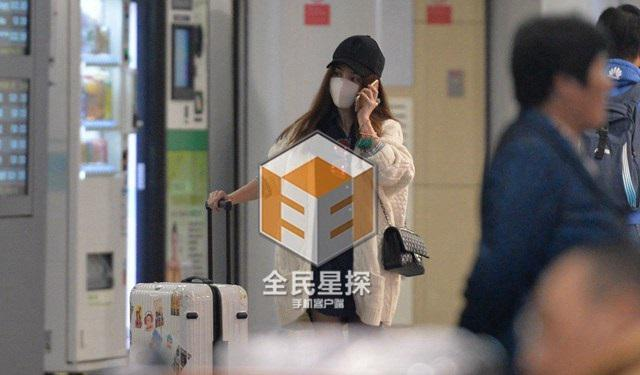NONE: (585, 57, 612, 123)
OK: (328, 66, 365, 110)
